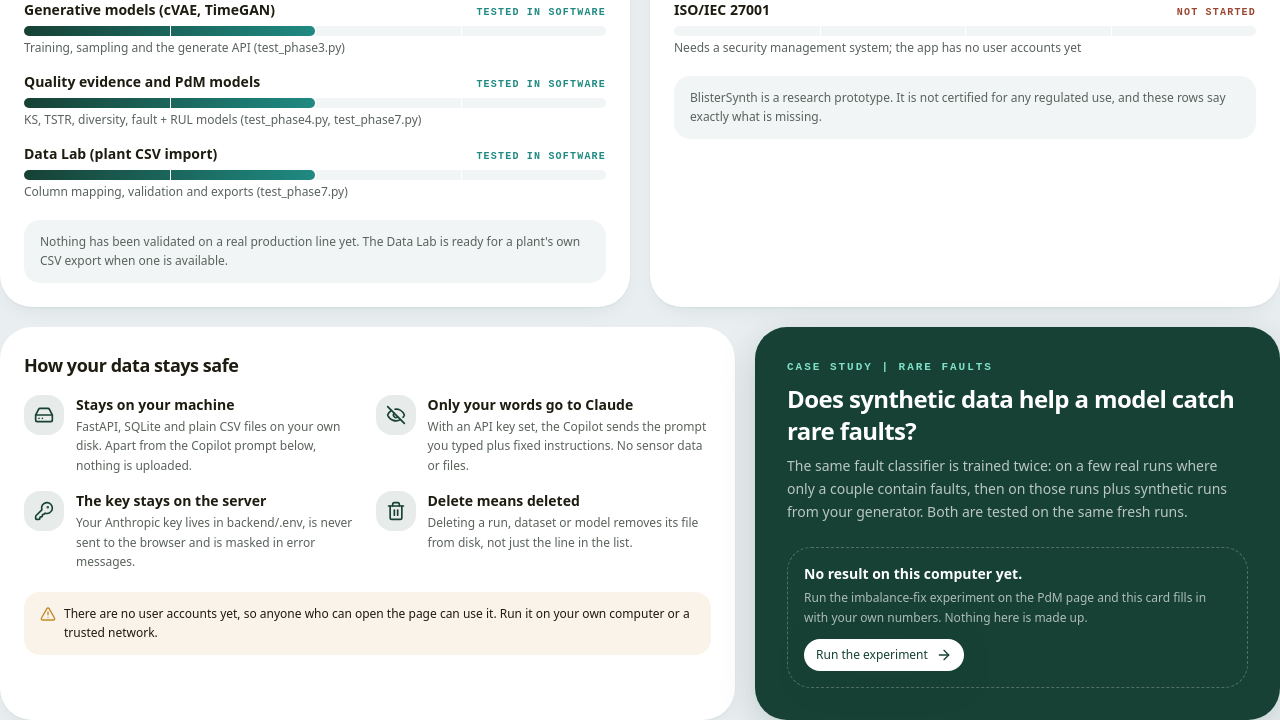
Test: Trust section › without a saved experiment the case study says so and links to it
(page scrolled)
expect the text "No result on this computer yet." is shown: met, box [804,564,1022,583]
What coordinates should you click on to do the following:
click the button "Run the experiment"
I would click on:
 (884, 655)
Its box is [804,639,964,671].
(page scrolled)
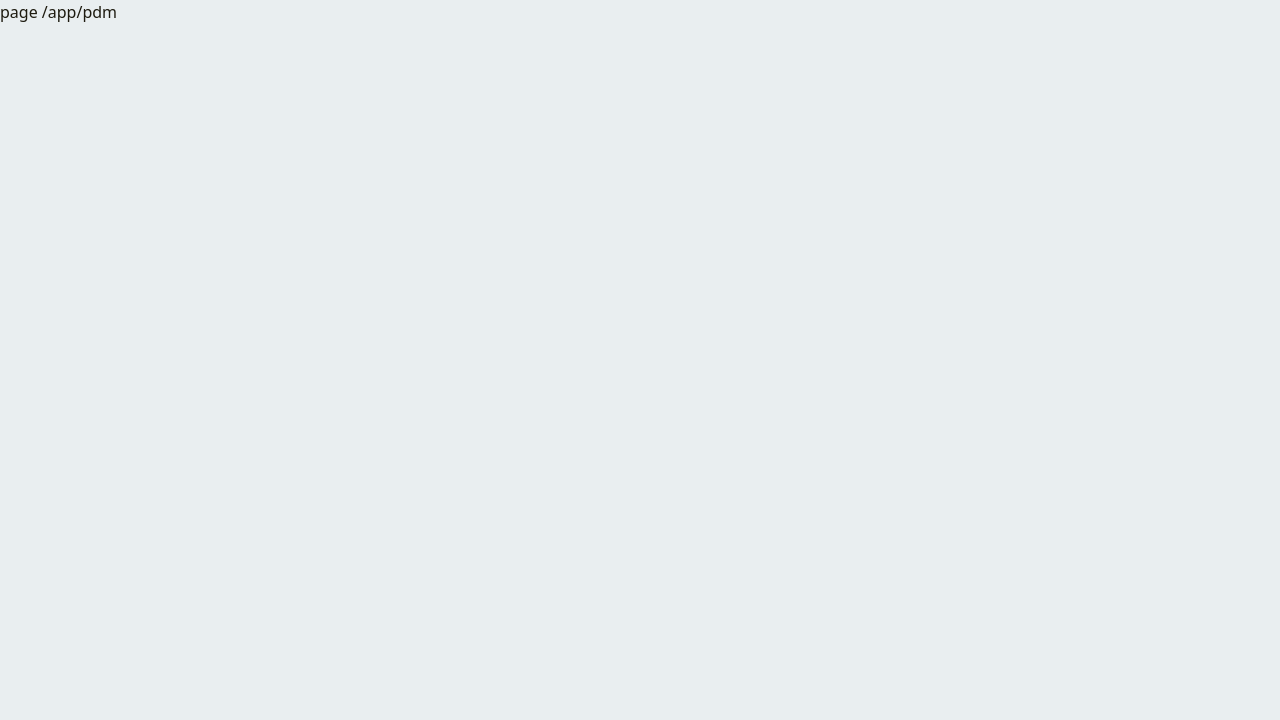
expect the text "page /app/pdm" is shown: met, box [0,1,117,23]
